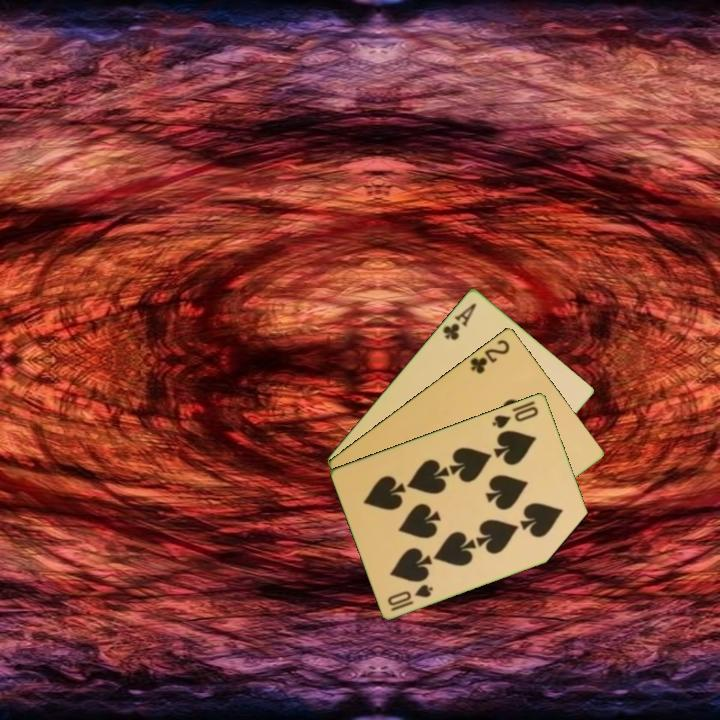10s: (384, 580, 436, 614), (489, 402, 541, 431)
2c: (466, 335, 513, 377)
Ac: (439, 299, 479, 343)
